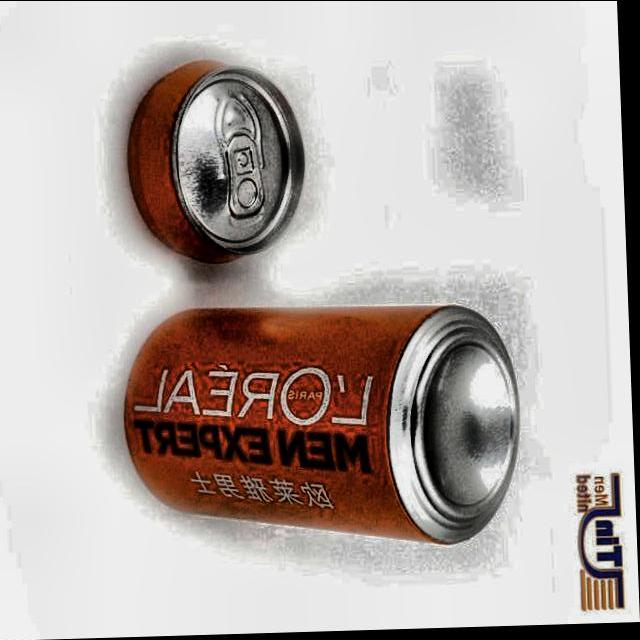Aluminum Can: (102, 278, 535, 562), (122, 43, 324, 274)
